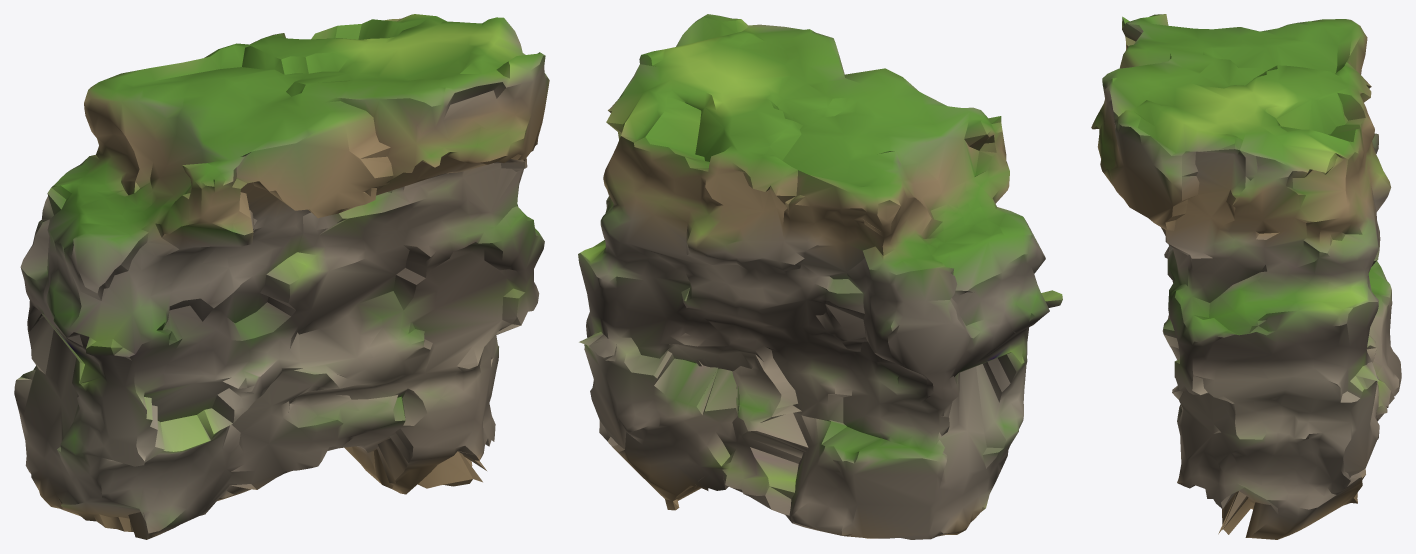
Rendered from glade_cliff_overhang.glb.
3 views of the same model, side by side, from view 1: azimuth 30°, elevation 25°; view 2: azimuth 150°, elevation 25°; view 3: azimuth 270°, elevation 25° (orthographic). The views are drawn at different scales.
Visible parts, largest first — view 1: glade_cliff_overhang; view 2: glade_cliff_overhang; view 3: glade_cliff_overhang.
Part boxes in pixels (box(x1,y1,x2,y2)): glade_cliff_overhang: box(14, 14, 549, 539); glade_cliff_overhang: box(578, 14, 1062, 539); glade_cliff_overhang: box(1091, 14, 1401, 539).
Size of the model in its own units: 14.55 by 13.81 by 9.23.
